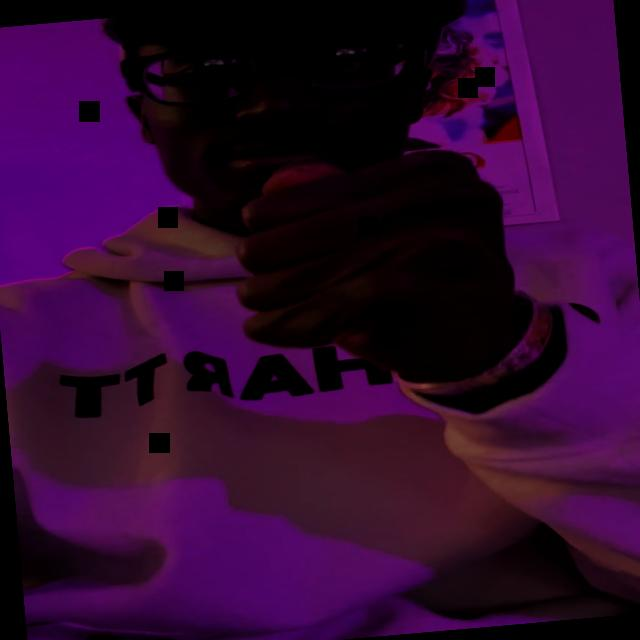Rock: (230, 140, 518, 388)
